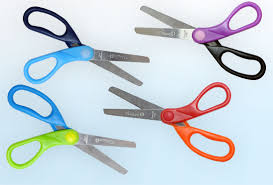tihiras: (1, 83, 144, 180), (135, 1, 269, 81)
